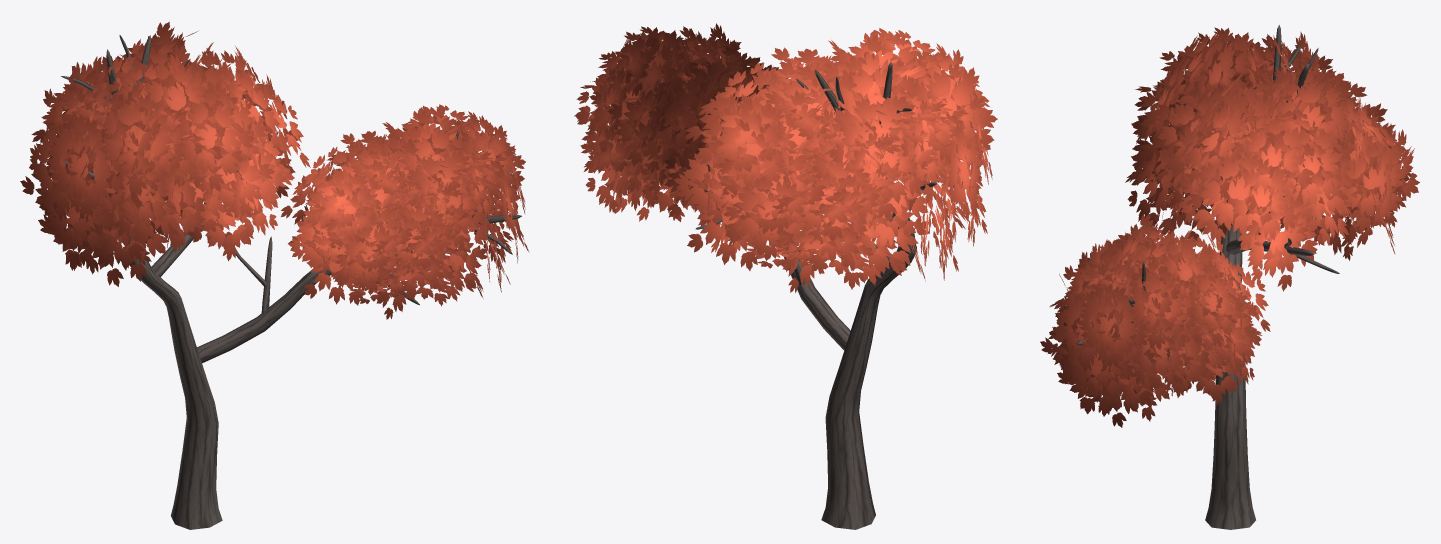
The model's file is MapleTree_1.glb.
3 views of the same model, side by side, from view 1: azimuth 30°, elevation 25°; view 2: azimuth 150°, elevation 25°; view 3: azimuth 270°, elevation 25° (orthographic). The views are drawn at different scales.
Visible parts, largest first — view 1: MapleTree_1; view 2: MapleTree_1; view 3: MapleTree_1.
Part boxes in pixels (x1=…): MapleTree_1: x1=20, y1=21, x2=529, y2=529; MapleTree_1: x1=574, y1=23, x2=997, y2=529; MapleTree_1: x1=1040, y1=25, x2=1419, y2=529.
Size of the model in its own units: 6.23 by 6.64 by 4.9.
2 materials, 2 textured.
